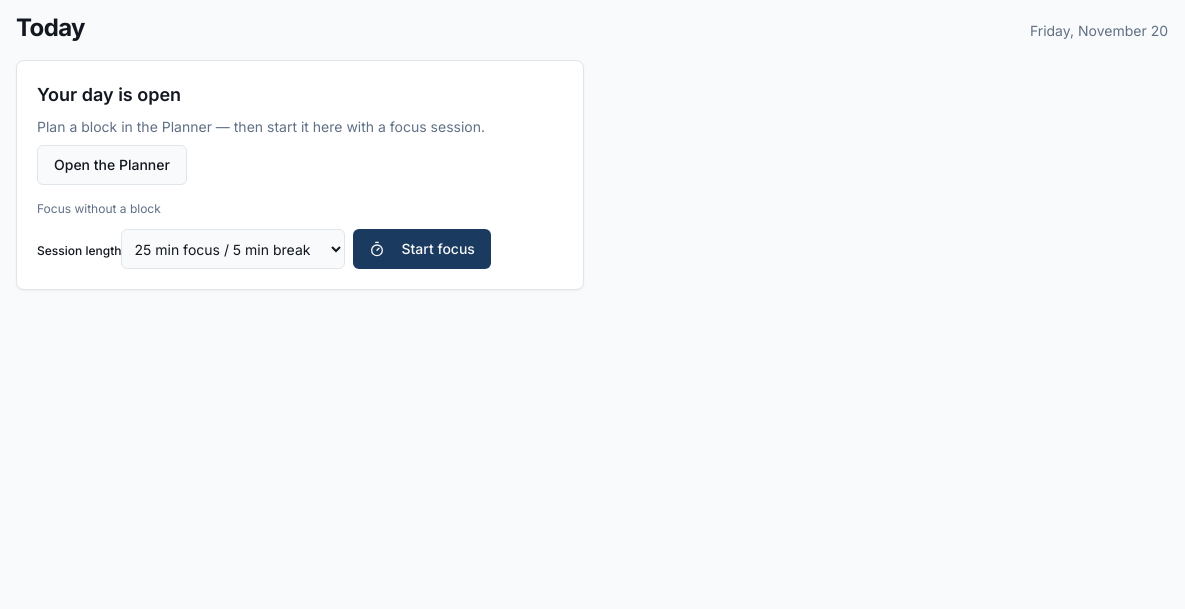
Test: Today › keeps the timer running offline and shows what waits to sync
Click the button "Start focus" at (422, 249), box [354,229,491,269]
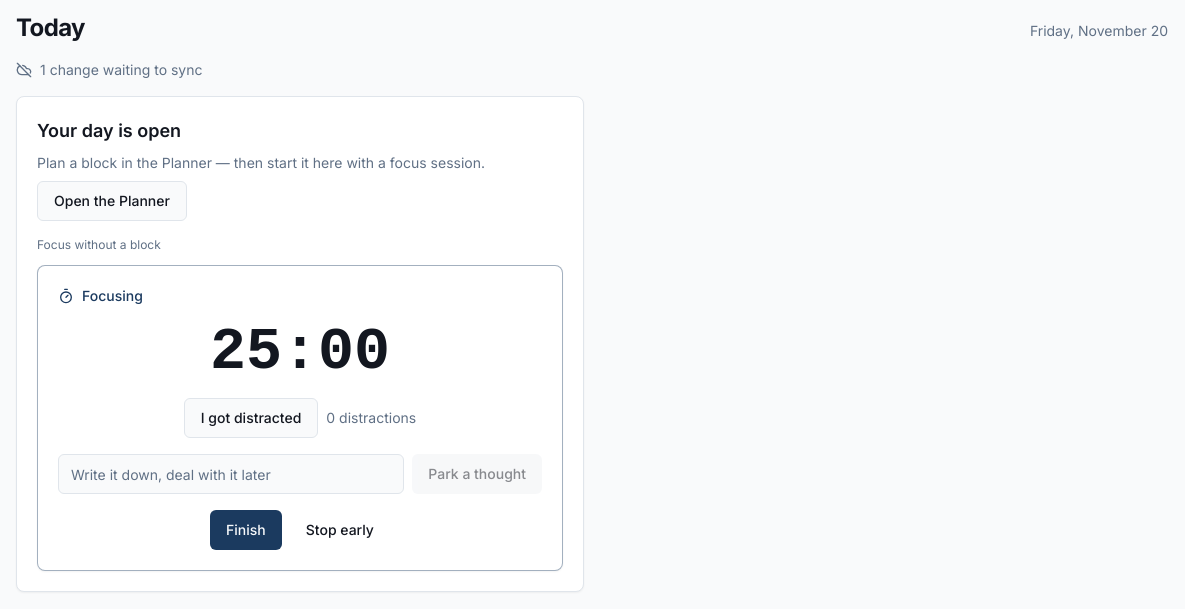
Now the text "25:00" is shown, box [210,318,390,386]
Now the text "1 change waiting to sync" is shown, box [16,61,202,78]
